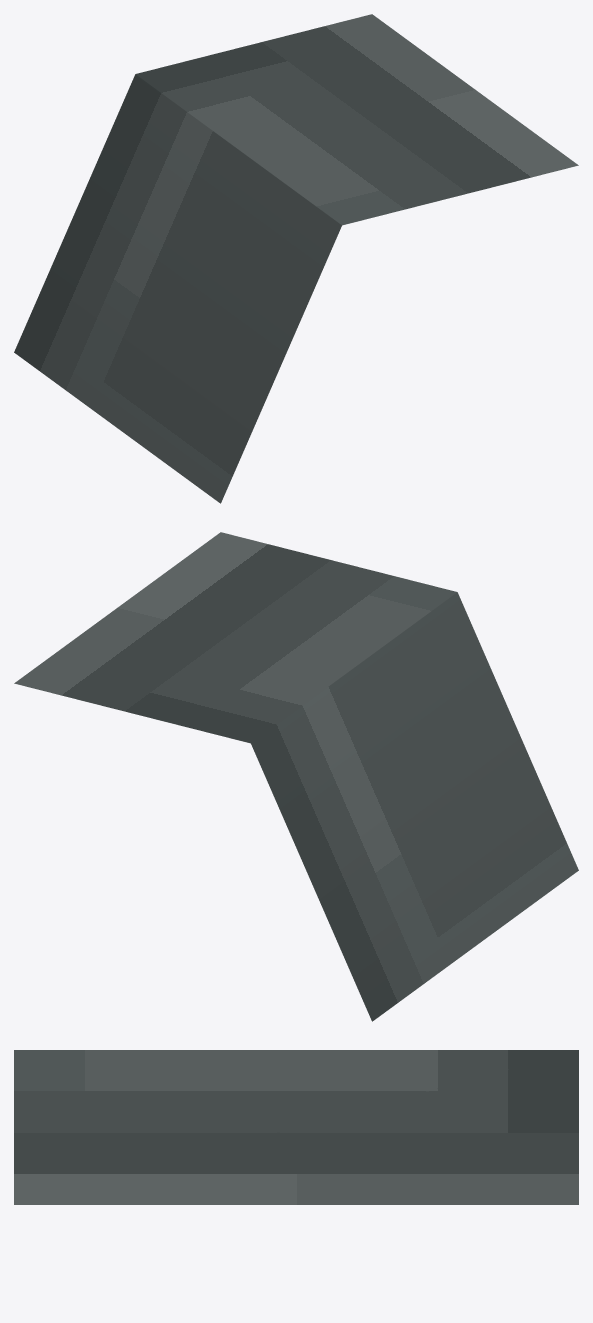
3 renders of one model, top to bottom at view 1: azimuth 30°, elevation 25°; view 2: azimuth 150°, elevation 25°; view 3: azimuth 270°, elevation 25°, orthographic. The views are drawn at different scales.
Bounding box in the file's own units: 0.5 × 0.3348 × 0.5.
Materials: 1 (1 with a texture image).
